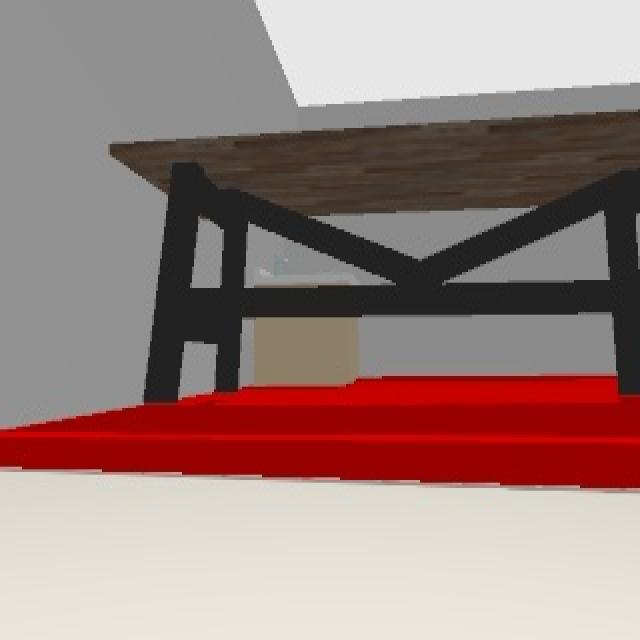dining: (110, 108, 640, 405)
